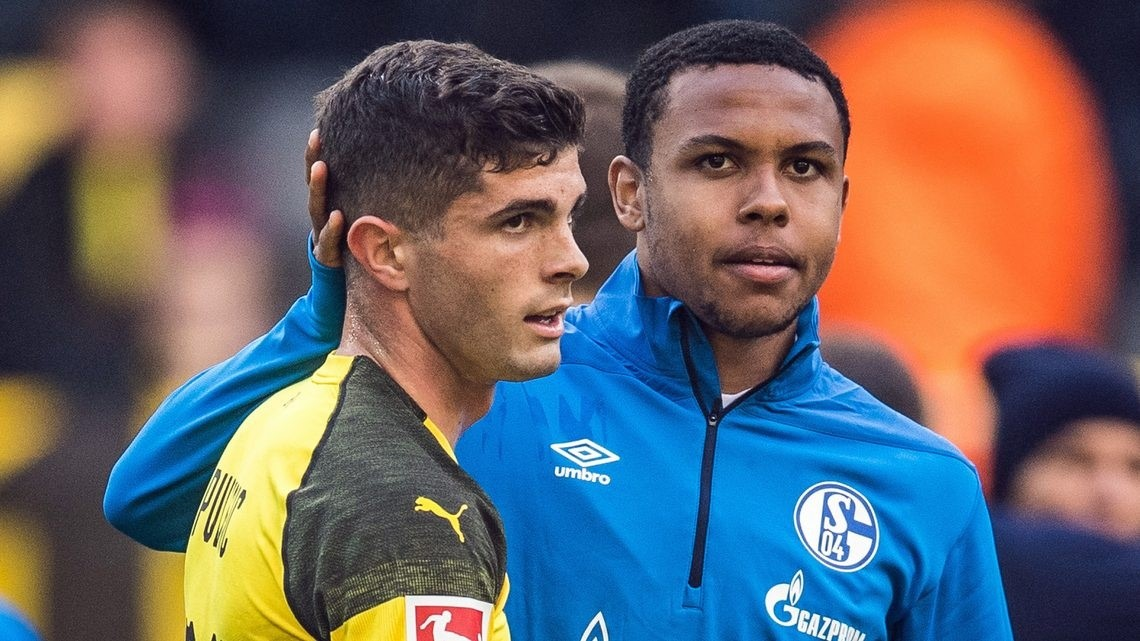face_no_mask: (311, 53, 588, 392), (606, 22, 848, 335)
